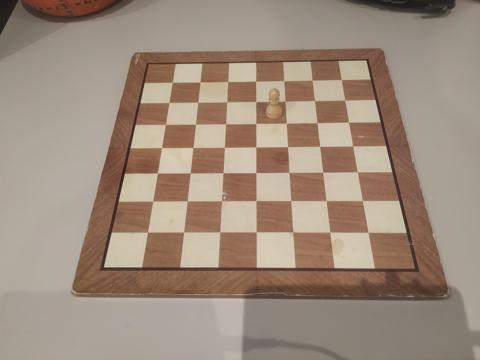xcorner: (178, 228, 188, 238), (215, 228, 225, 238), (252, 228, 262, 238), (289, 228, 299, 238), (326, 228, 336, 238), (147, 196, 157, 206), (182, 196, 192, 206), (217, 196, 227, 206), (252, 196, 262, 206), (287, 196, 297, 206), (358, 196, 368, 206), (152, 167, 162, 177), (185, 167, 195, 177), (252, 167, 262, 177), (319, 167, 329, 177), (353, 167, 363, 177), (157, 141, 167, 151), (188, 141, 198, 151), (220, 141, 230, 151), (252, 141, 262, 151), (284, 141, 294, 151), (316, 141, 326, 151), (161, 117, 171, 127), (191, 117, 201, 127), (252, 117, 262, 127), (223, 95, 233, 105), (252, 95, 262, 105), (341, 94, 351, 104), (168, 75, 178, 85), (196, 75, 206, 85), (224, 75, 234, 85), (280, 74, 290, 84), (309, 74, 319, 84), (337, 74, 347, 84), (142, 228, 152, 237), (364, 229, 374, 238), (323, 196, 332, 206), (219, 167, 228, 177), (286, 167, 295, 177), (349, 141, 358, 151), (222, 117, 231, 127), (283, 117, 292, 127), (194, 95, 203, 105), (311, 95, 321, 104), (252, 75, 262, 84), (314, 117, 323, 126), (345, 117, 354, 126), (165, 96, 174, 105), (282, 95, 291, 104)
